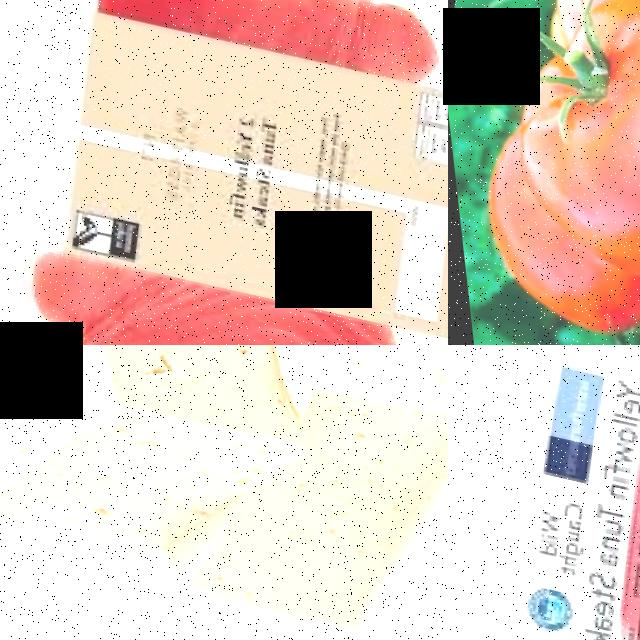tofu: (162, 345, 448, 640), (0, 345, 318, 596)
tomato: (464, 0, 640, 311)
tuna: (0, 248, 435, 345)
